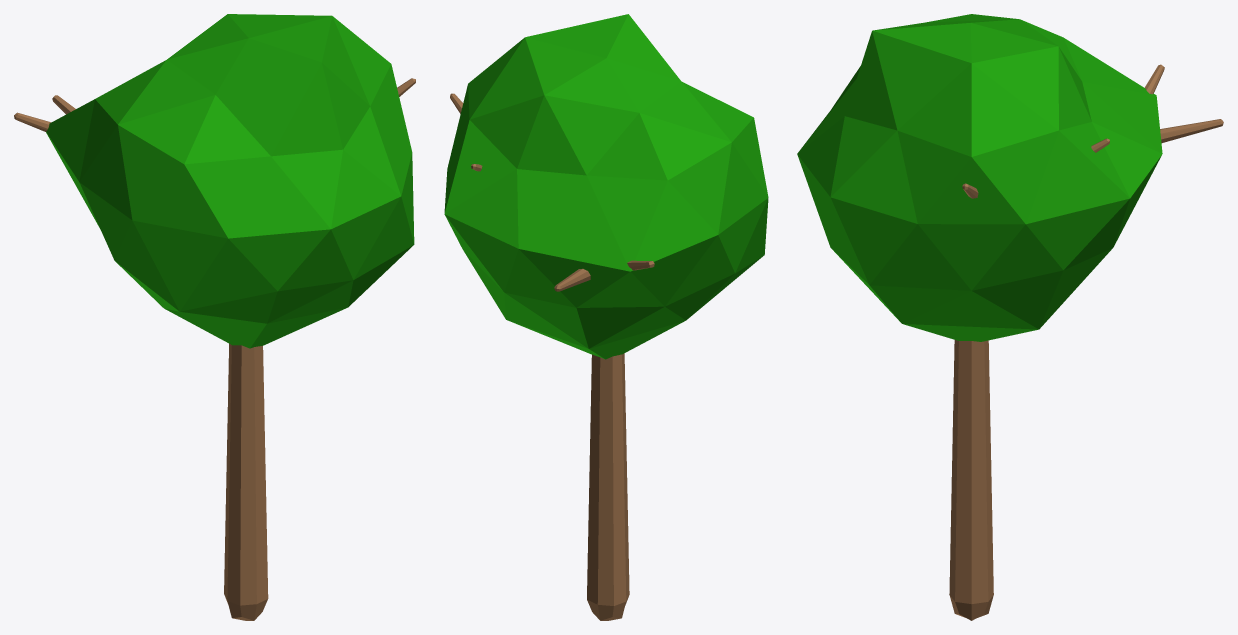
The model's file is Tree_7.fbx.
The picture shows the model from 3 angles, left to right: view 1: azimuth 30°, elevation 25°; view 2: azimuth 150°, elevation 25°; view 3: azimuth 270°, elevation 25°; orthographic projection. The views are drawn at different scales.
Visible parts, largest first — view 1: Tree7_mesh; view 2: Tree7_mesh; view 3: Tree7_mesh.
Part boxes in pixels (<box>): Tree7_mesh: <box>14,14,415,620</box>; Tree7_mesh: <box>444,14,768,620</box>; Tree7_mesh: <box>797,14,1223,620</box>.
Bounding box in the file's own units: 311 × 568 × 364.
